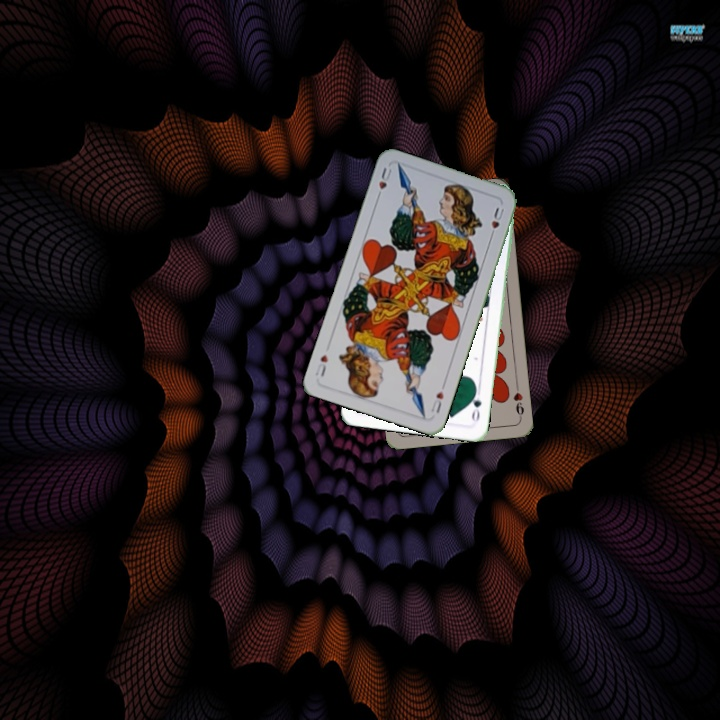GO: (467, 385, 484, 424)
H9: (509, 380, 527, 421)
HU: (373, 163, 395, 202), (427, 380, 448, 416)
